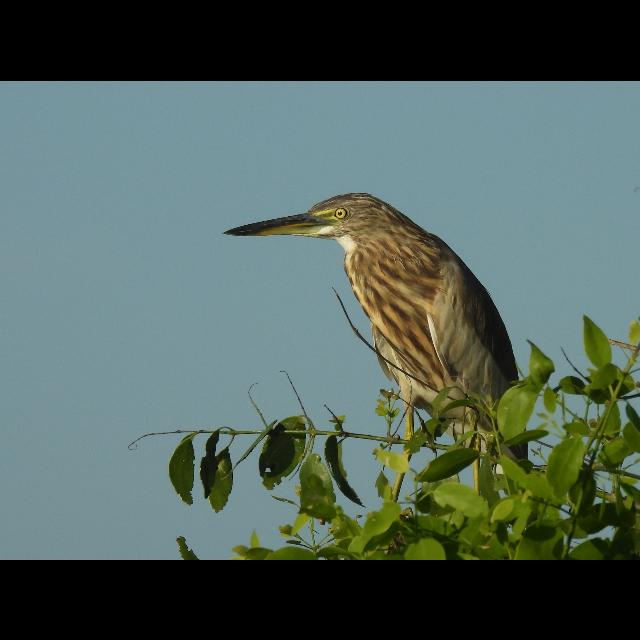heron: (220, 187, 524, 458)
